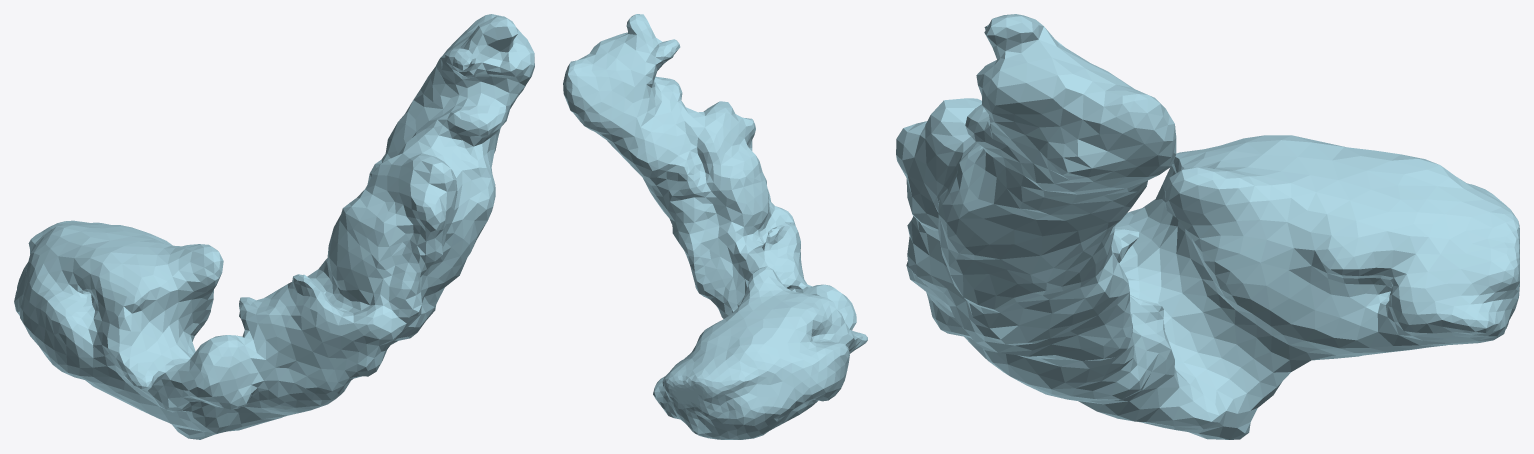
Rendered from pancreas.obj.
The picture shows the model from 3 angles, left to right: view 1: azimuth 30°, elevation 25°; view 2: azimuth 150°, elevation 25°; view 3: azimuth 270°, elevation 25°; orthographic projection. The views are drawn at different scales.
Visible parts, largest first — view 1: grp1; view 2: grp1; view 3: grp1.
Boxes of the visible parts, bbox=[...] form: grp1: bbox=[14, 14, 534, 439]; grp1: bbox=[563, 14, 867, 439]; grp1: bbox=[896, 14, 1519, 439].
Bounding box in the file's own units: 102 × 99.05 × 95.85.
